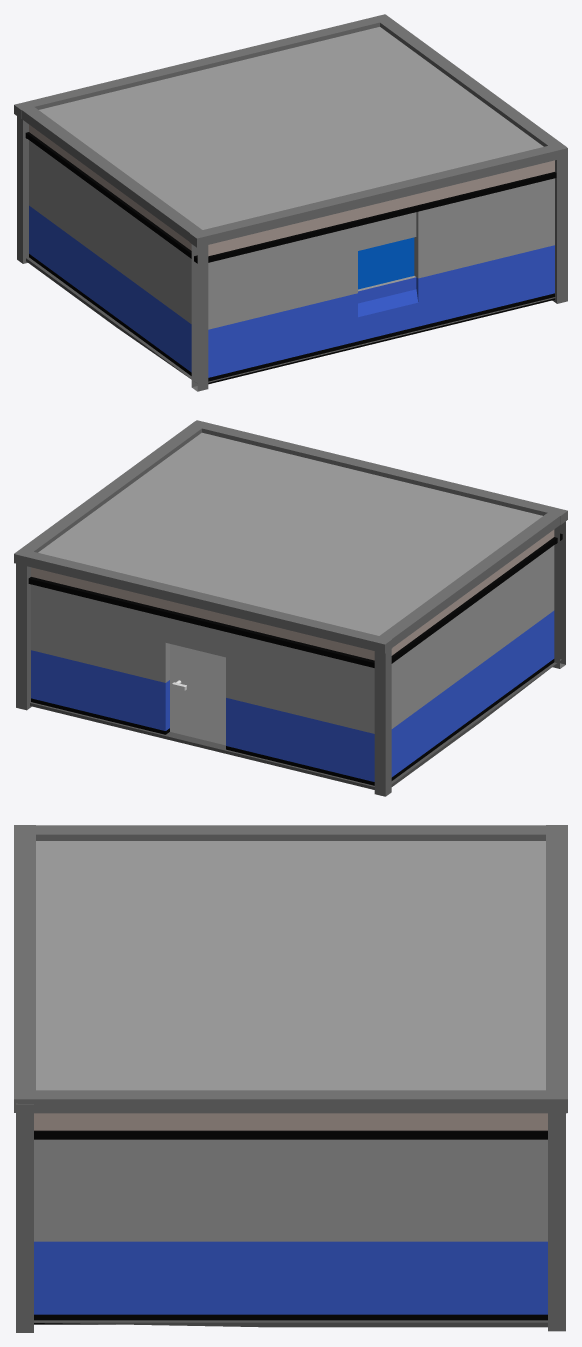
File: BigSheack.fbx
3 views of the same model, one above another, from view 1: azimuth 30°, elevation 25°; view 2: azimuth 150°, elevation 25°; view 3: azimuth 270°, elevation 25° (orthographic). The views are drawn at different scales.
Parts seen in each view (by area): view 1: Cube; view 2: Cube; view 3: Cube.
Boxes of the visible parts, x1=… form: Cube: x1=14, y1=14, x2=567, y2=391; Cube: x1=14, y1=420, x2=567, y2=796; Cube: x1=14, y1=825, x2=567, y2=1332.
Size of the model in its own units: 1975 by 781 by 1683.
